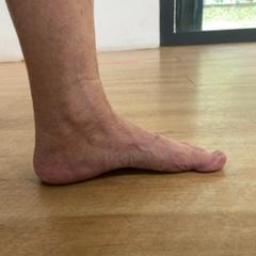Medial View -Left Foot-: (11, 81, 240, 204)
